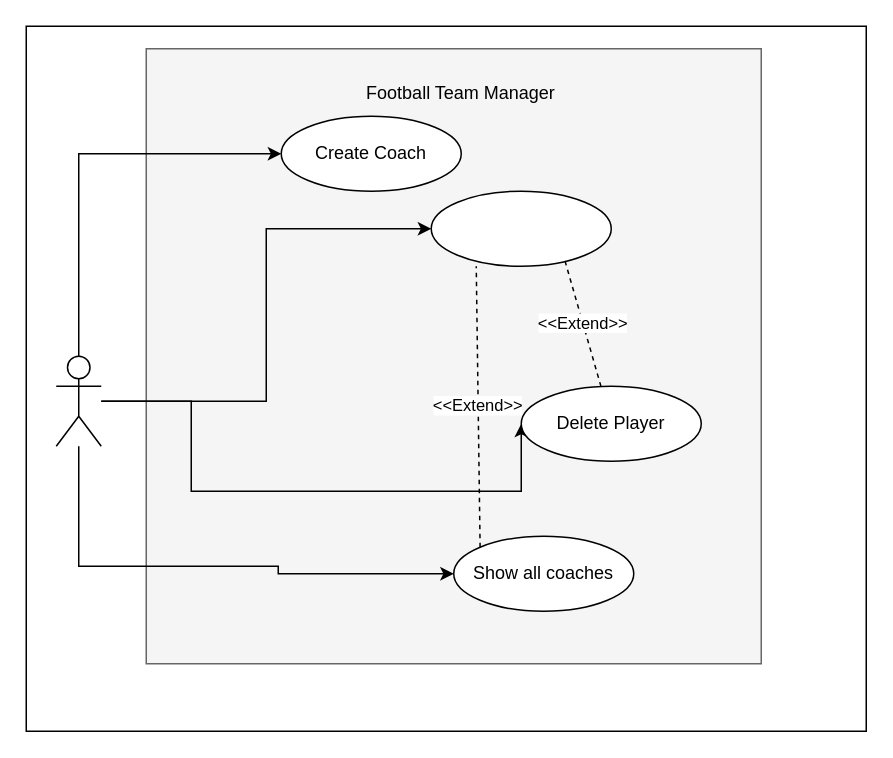
The diagram is 893 pixels wide and 758 high, and some of its shapes have lost their labels. Here are the shapes that lost their labels. From the top down, the centre of each, then its label:
[520,228]: Edit Player
[78,400]: Coach
